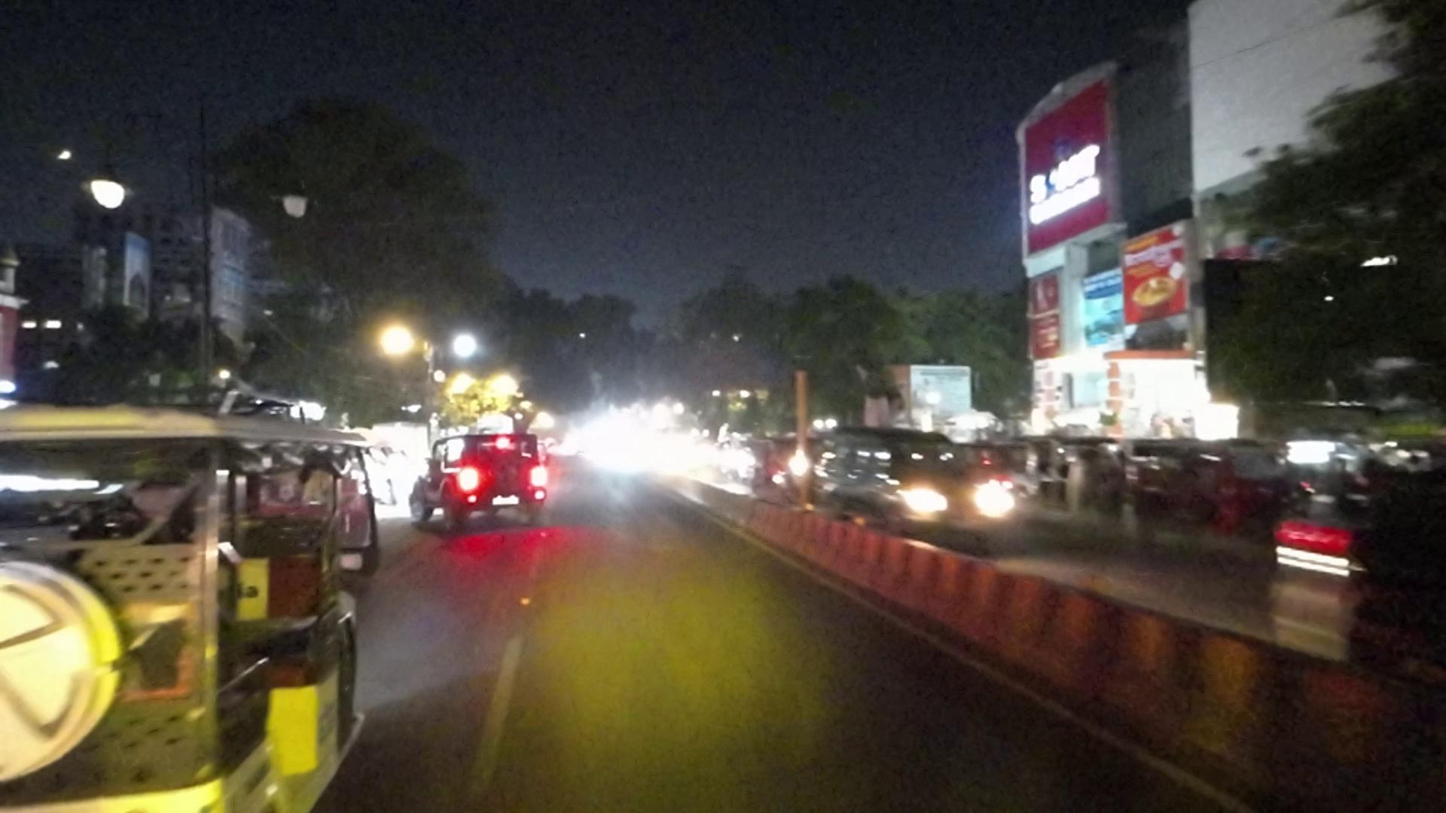streetlight: (265, 157, 323, 235)
